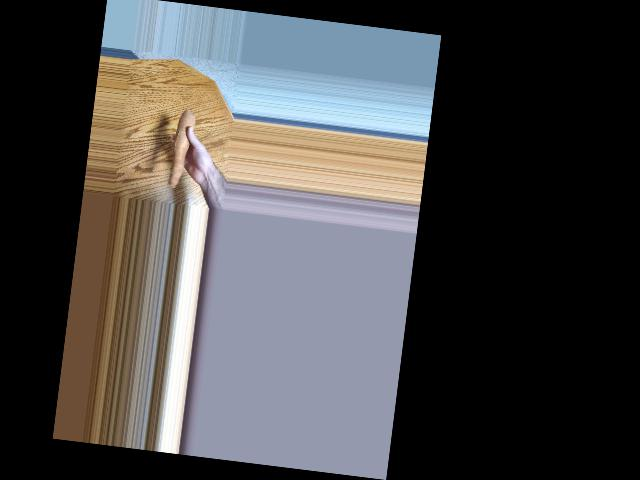sweet_potato: (165, 110, 193, 192)
